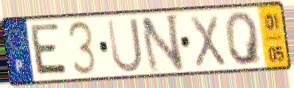3: (66, 19, 98, 78)
E: (29, 21, 70, 78)
N: (139, 11, 187, 76)
Q: (223, 10, 265, 68)
U: (105, 16, 145, 75)
X: (188, 13, 228, 70)
